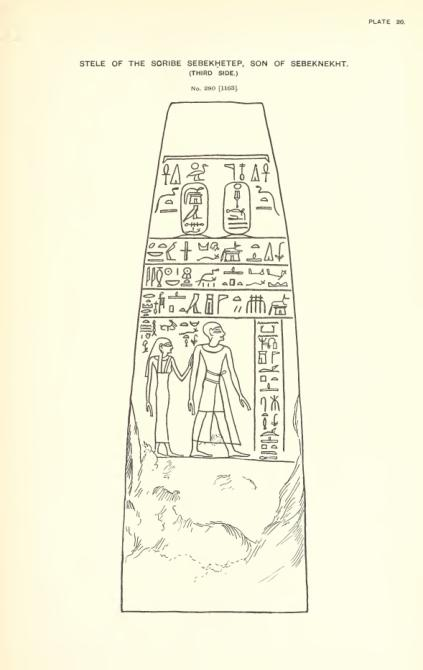circle: (221, 181, 255, 236), (180, 182, 210, 237)
